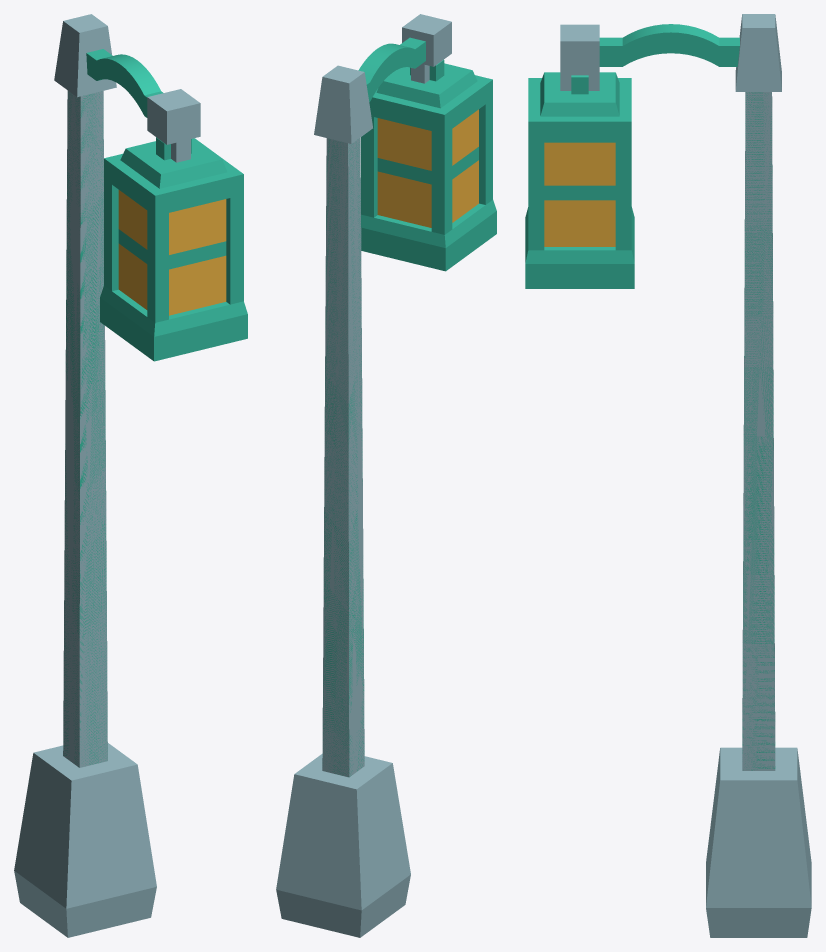
File: lightpostSingle.obj
3 renders of one model, left to right at view 1: azimuth 30°, elevation 25°; view 2: azimuth 150°, elevation 25°; view 3: azimuth 270°, elevation 25°, orthographic. The views are drawn at different scales.
Parts seen in each view (by area): view 1: lightpostSingle; view 2: lightpostSingle; view 3: lightpostSingle.
Boxes of the visible parts, left/top/right/bottom form: lightpostSingle: left=14, top=14, right=247, bottom=937; lightpostSingle: left=276, top=14, right=496, bottom=937; lightpostSingle: left=525, top=14, right=811, bottom=937.
Bounding box in the file's own units: 0.1459 × 1.32 × 0.3818.
